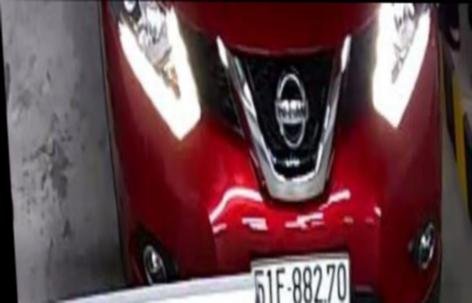License_Plate: (248, 255, 353, 303)
